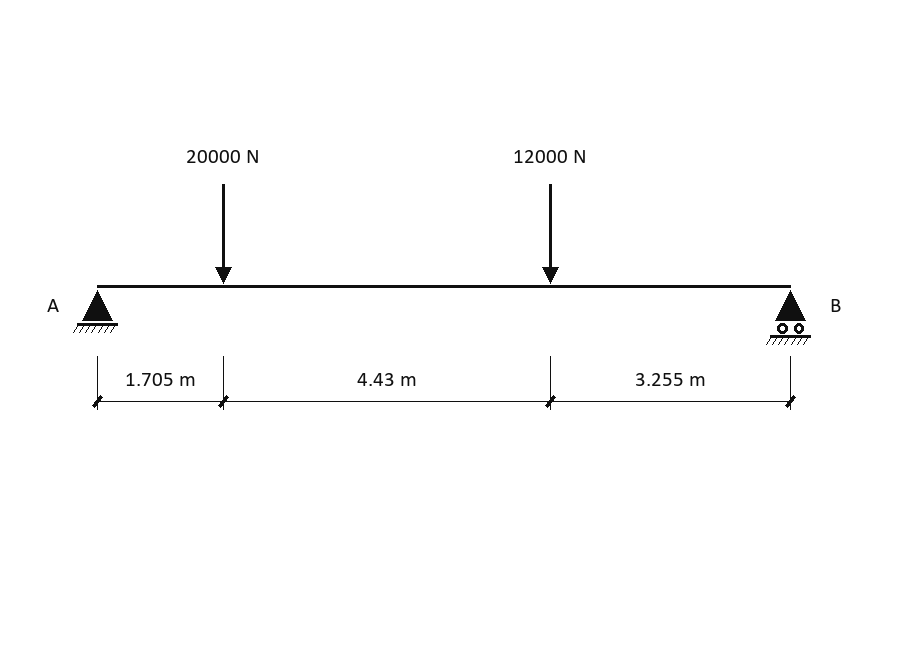pin_support: (73, 290, 118, 333)
point_load: (215, 184, 232, 284), (542, 184, 559, 284)
roller_support: (766, 290, 811, 345)
